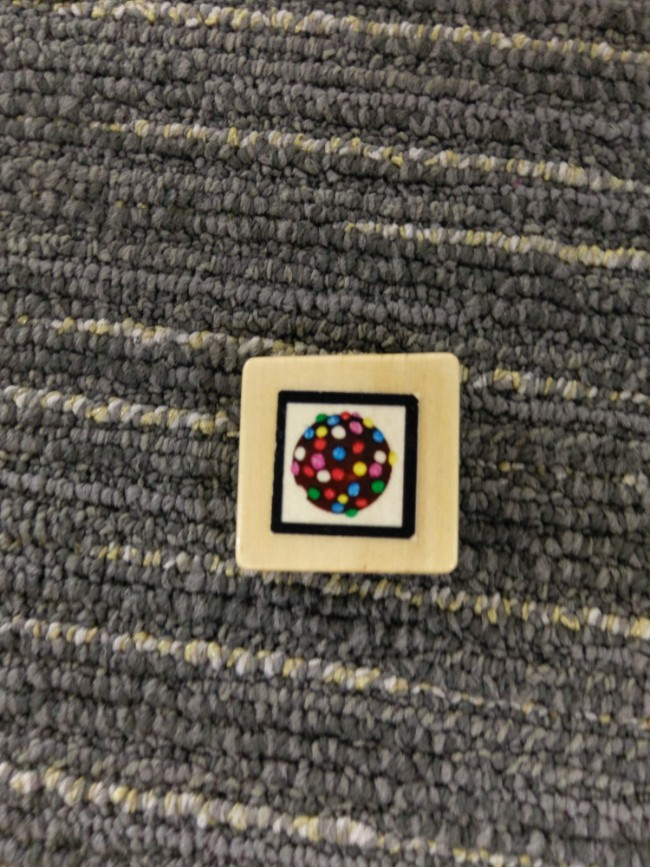cookie: (278, 401, 410, 533)
